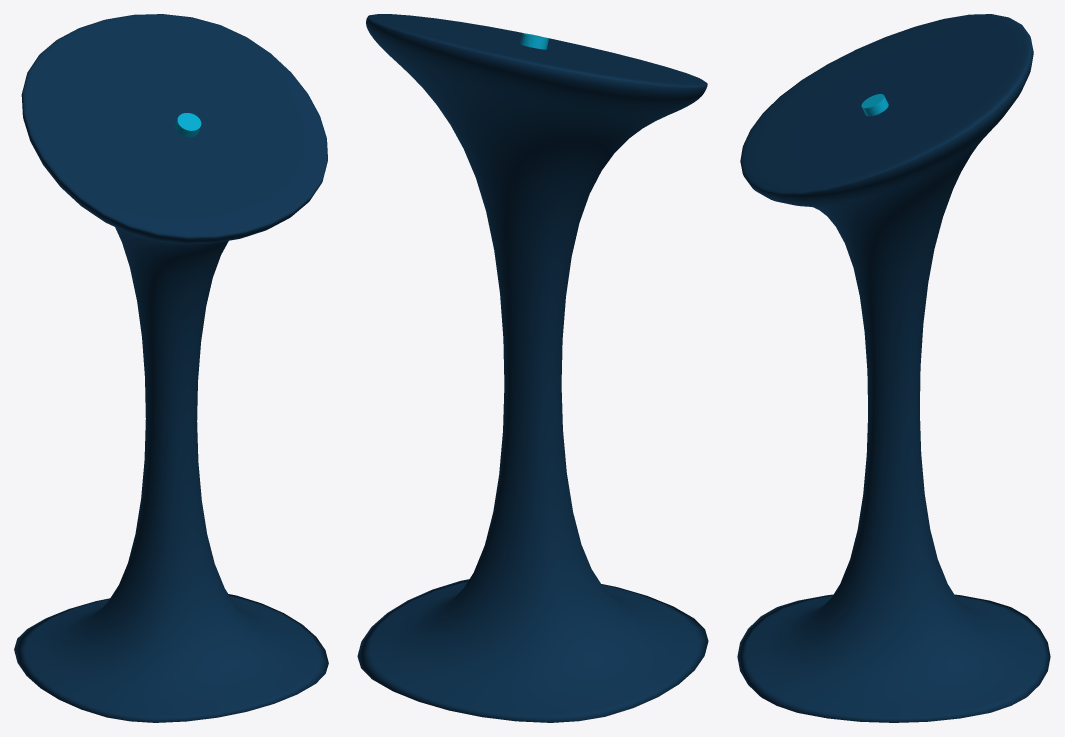
The model's file is alien_one_button_console.glb.
The picture shows the model from 3 angles, left to right: view 1: azimuth 30°, elevation 25°; view 2: azimuth 150°, elevation 25°; view 3: azimuth 270°, elevation 25°; orthographic projection. The views are drawn at different scales.
Parts seen in each view (by area): view 1: Cube, Cylinder; view 2: Cube; view 3: Cube.
Part boxes in pixels (box(x1,y1,x2,y2)): Cube: box(14, 14, 328, 722); Cylinder: box(175, 113, 201, 137); Cube: box(357, 14, 708, 722); Cube: box(737, 14, 1050, 722).
Bounding box in the file's own units: 5.15 × 10.91 × 5.07.
